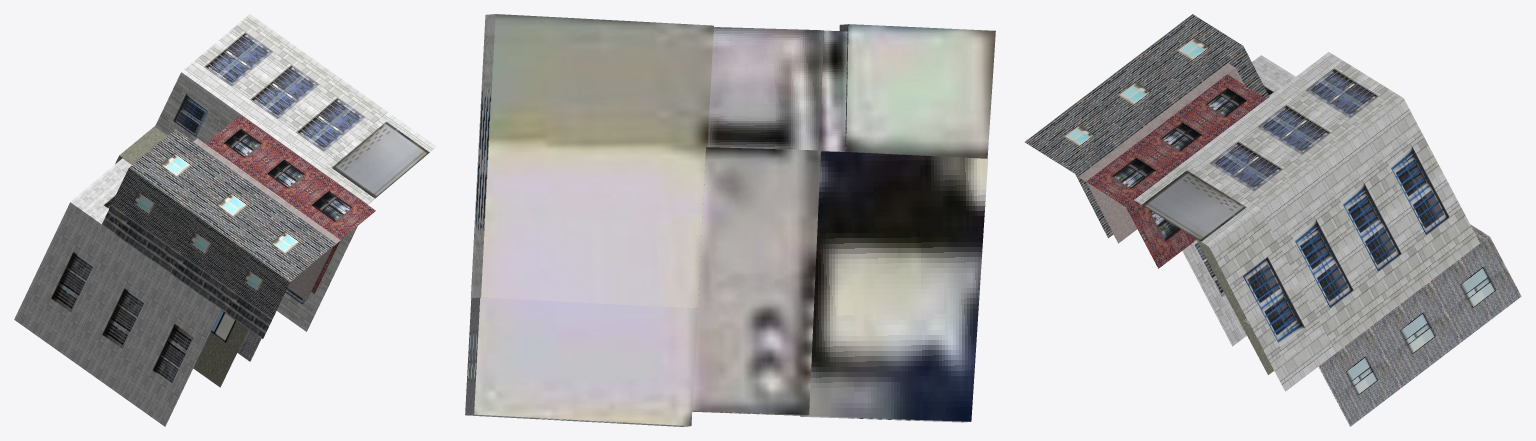
3 renders of one model, left to right at view 1: azimuth 30°, elevation 25°; view 2: azimuth 150°, elevation 25°; view 3: azimuth 270°, elevation 25°, orthographic. The views are drawn at different scales.
Size of the model in its own units: 22.71 by 17.25 by 24.8.
18 materials, 18 textured.
